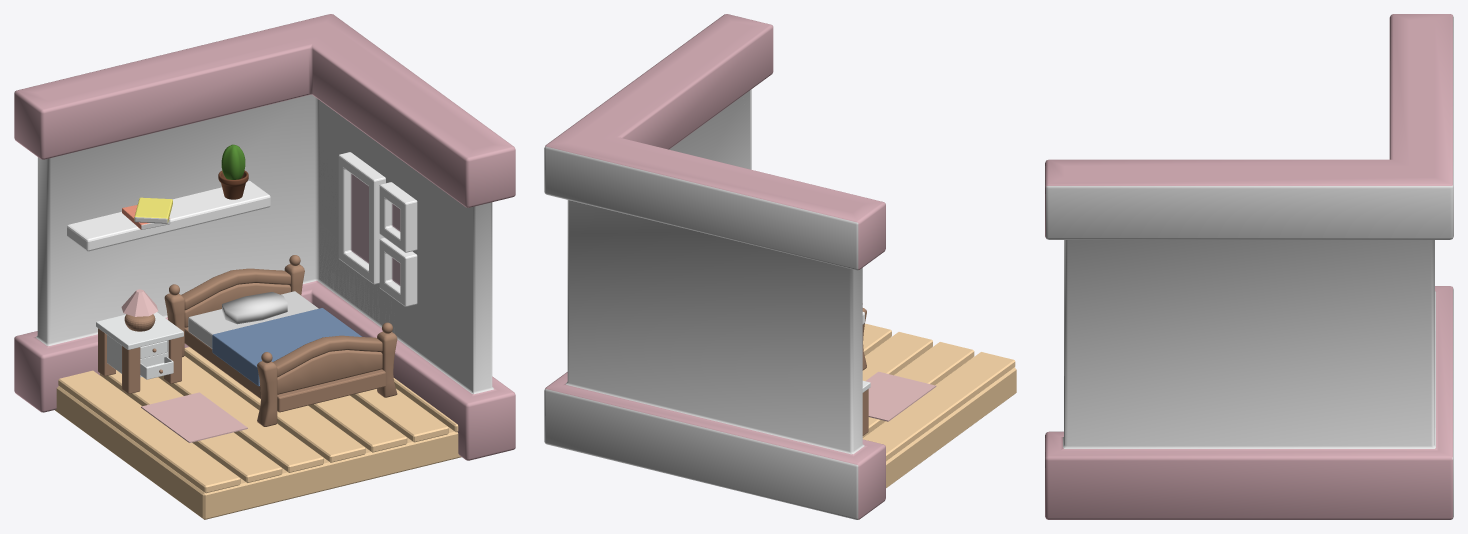
File: 3Dbedroom.glb
The picture shows the model from 3 angles, left to right: view 1: azimuth 30°, elevation 25°; view 2: azimuth 150°, elevation 25°; view 3: azimuth 270°, elevation 25°; orthographic projection. The views are drawn at different scales.
Visible parts, largest first — view 1: Cube, Plane.001, Plane, Cube.001, Plane.003, Cube.002, Plane.006, Plane.004, Plane.008, Plane.002, Plane.010, Plane.009 (+5 smaller); view 2: Cube, Plane.001, Plane, Plane.010; view 3: Cube.
Part boxes in pixels (bbox=[...]): Cube: bbox=[14, 14, 515, 460]; Plane.001: bbox=[58, 347, 458, 493]; Plane: bbox=[55, 356, 461, 519]; Cube.001: bbox=[338, 152, 417, 306]; Plane.003: bbox=[181, 268, 382, 394]; Cube.002: bbox=[67, 181, 270, 251]; Plane.006: bbox=[212, 308, 361, 386]; Plane.004: bbox=[164, 255, 397, 426]; Plane.008: bbox=[96, 312, 183, 379]; Plane.002: bbox=[184, 327, 385, 412]; Plane.010: bbox=[141, 392, 247, 442]; Plane.009: bbox=[98, 328, 181, 393]; Cube: bbox=[544, 14, 885, 519]; Plane.001: bbox=[862, 323, 1015, 460]; Plane: bbox=[863, 337, 1016, 487]; Plane.010: bbox=[865, 371, 936, 421]; Cube: bbox=[1045, 14, 1453, 519].
Size of the model in its own units: 2.21 by 2.02 by 2.21.
